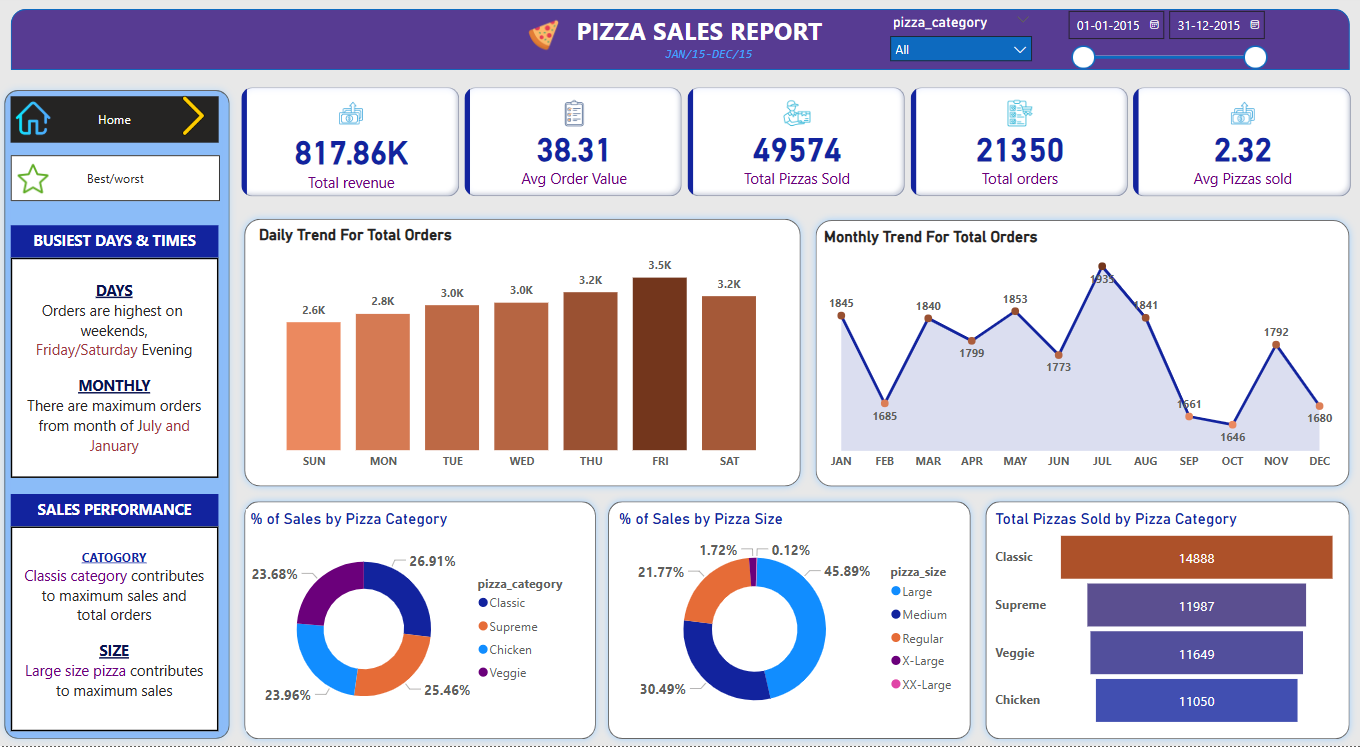

What the dashboard file says about the page in this screenshot:
{"tool":"powerbi","page":{"name":"Home","canvas":[1500,820],"ordinal":0},"visuals":[{"type":"cardVisual","fields":{"Data":["pizza_sales.Total revenue","pizza_sales.Avg Order Value","pizza_sales.Total Pizzas Sold","pizza_sales.Total orders","pizza_sales.Avg Pizzas sold"]},"box":[261.6,96.7,1220.9,129.5],"z":0},{"type":"shape","box":[15,16.4,1467.6,66.8],"z":1},{"type":"textbox","box":[626.8,16.4,298.4,46.3],"z":2},{"type":"textbox","box":[707.2,50.4,137.6,32.7],"z":3},{"type":"image","box":[565.5,23.2,61.3,43.6],"z":4},{"type":"shape","box":[261.6,237.1,622.7,308],"z":5},{"type":"clusteredColumnChart","title":"Daily  Trend For Total Orders","fields":{"Category":["pizza_sales.Order Day"],"Y":["pizza_sales.Total orders"]},"box":[280.7,252.1,583.2,275.3],"z":6},{"type":"shape","box":[884.4,238.5,598.2,306.6],"z":7},{"type":"areaChart","title":"Monthly Trend For Total Orders","fields":{"Category":["pizza_sales.Order Month"],"Y":["pizza_sales.Total orders"]},"box":[896.6,254.8,569.6,272.5],"z":8},{"type":"shape","box":[1069.7,545.1,412.9,275.3],"z":10},{"type":"shape","box":[261.6,545.1,399.3,275.3],"z":11},{"type":"shape","box":[658.2,545.1,411.5,275.3],"z":12},{"type":"donutChart","title":"% of Sales by Pizza Category","fields":{"Category":["pizza_sales.pizza_category"],"Y":["pizza_sales.Total revenue"]},"box":[271.2,561.4,366.6,242.6],"z":13},{"type":"donutChart","title":"% of Sales by Pizza Size","fields":{"Y":["pizza_sales.Total revenue"],"Category":["pizza_sales.pizza_size"]},"box":[673.1,561.4,385.6,242.6],"z":14},{"type":"funnel","title":"Total Pizzas Sold by Pizza Category","fields":{"Category":["pizza_sales.pizza_category"],"Y":["pizza_sales.Total Pizzas Sold"]},"box":[1083.3,561.4,382.9,242.6],"z":15},{"type":"shape","box":[0,96.7,261.6,723.6],"z":16},{"type":"textbox","box":[15,252.1,226.2,35.4],"z":17},{"type":"textbox","box":[15,287.5,226.2,239.8],"z":18},{"type":"textbox","box":[15,545.1,226.2,35.4],"z":19},{"type":"textbox","box":[15,580.5,226.2,223.5],"z":20},{"type":"slicer","fields":{"Values":["pizza_sales.pizza_category"]},"box":[963.4,16.4,174.4,66.8],"z":21},{"type":"slicer","fields":{"Values":["pizza_sales.order_date"]},"box":[1155.5,8.2,237.1,88.6],"z":22},{"type":"pageNavigator","box":[15,111.7,226.2,50.4],"z":23},{"type":"pageNavigator","box":[15,175.8,228.9,50.4],"z":24},{"type":"image","box":[185,106.7,58.3,53.3],"z":25},{"type":"image","box":[15,111.7,49.1,47.7],"z":26},{"type":"image","box":[17.7,175.8,43.6,51.8],"z":27}]}

Visuals, with their boxes in screenshot pixels (x1, y1, x2, y2), scaled from the page's 1500x820 canvas onto the 1360x747 screenshot:
cardVisual - pizza_sales.Total revenue x pizza_sales.Avg Order Value: 237/88/1344/206
shape: 14/15/1344/76
textbox: 568/15/839/57
textbox: 641/46/766/76
image: 513/21/568/61
shape: 237/216/802/497
"Daily  Trend For Total Orders" clusteredColumnChart: 255/230/783/480
shape: 802/217/1344/497
"Monthly Trend For Total Orders" areaChart: 813/232/1329/480
shape: 970/497/1344/746
shape: 237/497/599/746
shape: 597/497/970/746
"% of Sales by Pizza Category" donutChart: 246/511/578/732
"% of Sales by Pizza Size" donutChart: 610/511/960/732
"Total Pizzas Sold by Pizza Category" funnel: 982/511/1329/732
shape: 0/88/237/746
textbox: 14/230/219/262
textbox: 14/262/219/480
textbox: 14/497/219/529
textbox: 14/529/219/732
slicer - pizza_sales.pizza_category: 873/15/1032/76
slicer - pizza_sales.order_date: 1048/7/1263/88
pageNavigator: 14/102/219/148
pageNavigator: 14/160/221/206
image: 168/97/221/146
image: 14/102/58/145
image: 16/160/56/207
